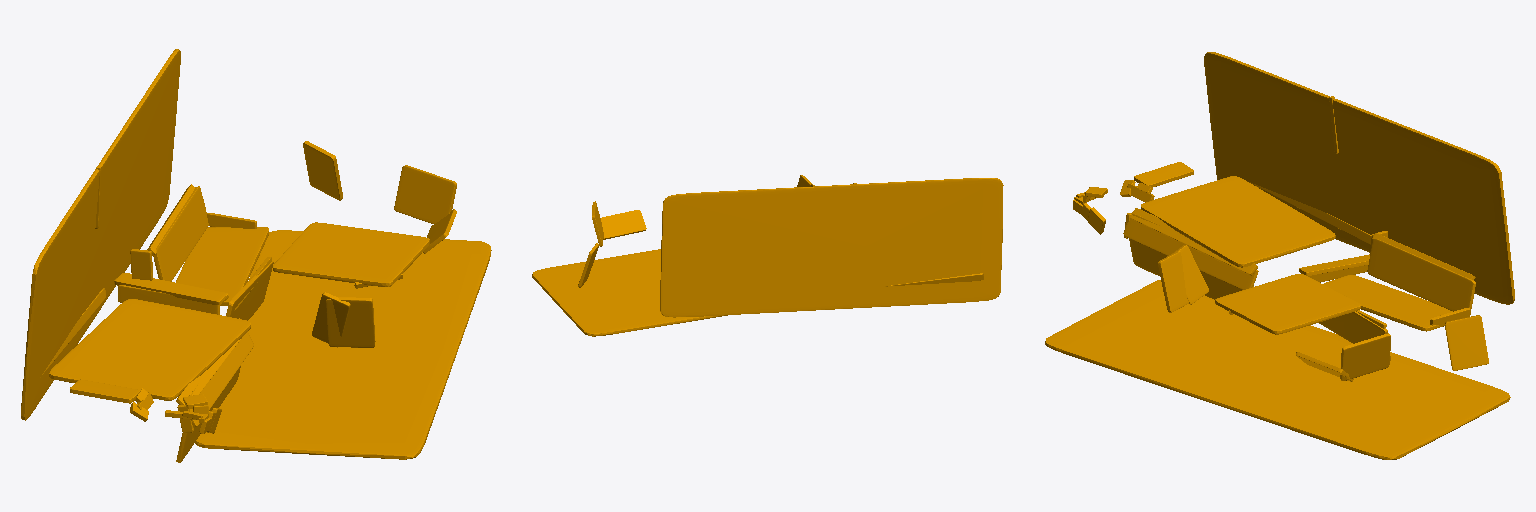
The robot description file, URDF, robot "scene":
<?xml version='1.0' encoding='utf-8'?>
<robot name="scene"><link name="scene_link"><visual><origin xyz="0.000000 0.000000 0.000000" rpy="0.000000 -0.000000 0.000000" /><geometry><mesh filename="part_000.obj" /></geometry></visual><collision><origin xyz="0.000000 0.000000 0.000000" rpy="0.000000 -0.000000 0.000000" /><geometry><mesh filename="part_000.obj" /></geometry></collision><visual><origin xyz="0.000000 0.000000 0.000000" rpy="0.000000 -0.000000 0.000000" /><geometry><mesh filename="part_001.obj" /></geometry></visual><collision><origin xyz="0.000000 0.000000 0.000000" rpy="0.000000 -0.000000 0.000000" /><geometry><mesh filename="part_001.obj" /></geometry></collision><visual><origin xyz="0.000000 0.000000 0.000000" rpy="0.000000 -0.000000 0.000000" /><geometry><mesh filename="part_002.obj" /></geometry></visual><collision><origin xyz="0.000000 0.000000 0.000000" rpy="0.000000 -0.000000 0.000000" /><geometry><mesh filename="part_002.obj" /></geometry></collision><visual><origin xyz="0.000000 0.000000 0.000000" rpy="0.000000 -0.000000 0.000000" /><geometry><mesh filename="part_003.obj" /></geometry></visual><collision><origin xyz="0.000000 0.000000 0.000000" rpy="0.000000 -0.000000 0.000000" /><geometry><mesh filename="part_003.obj" /></geometry></collision><visual><origin xyz="0.000000 0.000000 0.000000" rpy="0.000000 -0.000000 0.000000" /><geometry><mesh filename="part_004.obj" /></geometry></visual><collision><origin xyz="0.000000 0.000000 0.000000" rpy="0.000000 -0.000000 0.000000" /><geometry><mesh filename="part_004.obj" /></geometry></collision><visual><origin xyz="0.000000 0.000000 0.000000" rpy="0.000000 -0.000000 0.000000" /><geometry><mesh filename="part_005.obj" /></geometry></visual><collision><origin xyz="0.000000 0.000000 0.000000" rpy="0.000000 -0.000000 0.000000" /><geometry><mesh filename="part_005.obj" /></geometry></collision><visual><origin xyz="0.000000 0.000000 0.000000" rpy="0.000000 -0.000000 0.000000" /><geometry><mesh filename="part_006.obj" /></geometry></visual><collision><origin xyz="0.000000 0.000000 0.000000" rpy="0.000000 -0.000000 0.000000" /><geometry><mesh filename="part_006.obj" /></geometry></collision><visual><origin xyz="0.000000 0.000000 0.000000" rpy="0.000000 -0.000000 0.000000" /><geometry><mesh filename="part_007.obj" /></geometry></visual><collision><origin xyz="0.000000 0.000000 0.000000" rpy="0.000000 -0.000000 0.000000" /><geometry><mesh filename="part_007.obj" /></geometry></collision><visual><origin xyz="0.000000 0.000000 0.000000" rpy="0.000000 -0.000000 0.000000" /><geometry><mesh filename="part_008.obj" /></geometry></visual><collision><origin xyz="0.000000 0.000000 0.000000" rpy="0.000000 -0.000000 0.000000" /><geometry><mesh filename="part_008.obj" /></geometry></collision><visual><origin xyz="0.000000 0.000000 0.000000" rpy="0.000000 -0.000000 0.000000" /><geometry><mesh filename="part_009.obj" /></geometry></visual><collision><origin xyz="0.000000 0.000000 0.000000" rpy="0.000000 -0.000000 0.000000" /><geometry><mesh filename="part_009.obj" /></geometry></collision><visual><origin xyz="0.000000 0.000000 0.000000" rpy="0.000000 -0.000000 0.000000" /><geometry><mesh filename="part_010.obj" /></geometry></visual><collision><origin xyz="0.000000 0.000000 0.000000" rpy="0.000000 -0.000000 0.000000" /><geometry><mesh filename="part_010.obj" /></geometry></collision><visual><origin xyz="0.000000 0.000000 0.000000" rpy="0.000000 -0.000000 0.000000" /><geometry><mesh filename="part_011.obj" /></geometry></visual><collision><origin xyz="0.000000 0.000000 0.000000" rpy="0.000000 -0.000000 0.000000" /><geometry><mesh filename="part_011.obj" /></geometry></collision><visual><origin xyz="0.000000 0.000000 0.000000" rpy="0.000000 -0.000000 0.000000" /><geometry><mesh filename="part_012.obj" /></geometry></visual><collision><origin xyz="0.000000 0.000000 0.000000" rpy="0.000000 -0.000000 0.000000" /><geometry><mesh filename="part_012.obj" /></geometry></collision><visual><origin xyz="0.000000 0.000000 0.000000" rpy="0.000000 -0.000000 0.000000" /><geometry><mesh filename="part_013.obj" /></geometry></visual><collision><origin xyz="0.000000 0.000000 0.000000" rpy="0.000000 -0.000000 0.000000" /><geometry><mesh filename="part_013.obj" /></geometry></collision><visual><origin xyz="0.000000 0.000000 0.000000" rpy="0.000000 -0.000000 0.000000" /><geometry><mesh filename="part_014.obj" /></geometry></visual><collision><origin xyz="0.000000 0.000000 0.000000" rpy="0.000000 -0.000000 0.000000" /><geometry><mesh filename="part_014.obj" /></geometry></collision><visual><origin xyz="0.000000 0.000000 0.000000" rpy="0.000000 -0.000000 0.000000" /><geometry><mesh filename="part_015.obj" /></geometry></visual><collision><origin xyz="0.000000 0.000000 0.000000" rpy="0.000000 -0.000000 0.000000" /><geometry><mesh filename="part_015.obj" /></geometry></collision><visual><origin xyz="0.000000 0.000000 0.000000" rpy="0.000000 -0.000000 0.000000" /><geometry><mesh filename="part_016.obj" /></geometry></visual><collision><origin xyz="0.000000 0.000000 0.000000" rpy="0.000000 -0.000000 0.000000" /><geometry><mesh filename="part_016.obj" /></geometry></collision><visual><origin xyz="0.000000 0.000000 0.000000" rpy="0.000000 -0.000000 0.000000" /><geometry><mesh filename="part_017.obj" /></geometry></visual><collision><origin xyz="0.000000 0.000000 0.000000" rpy="0.000000 -0.000000 0.000000" /><geometry><mesh filename="part_017.obj" /></geometry></collision><visual><origin xyz="0.000000 0.000000 0.000000" rpy="0.000000 -0.000000 0.000000" /><geometry><mesh filename="part_018.obj" /></geometry></visual><collision><origin xyz="0.000000 0.000000 0.000000" rpy="0.000000 -0.000000 0.000000" /><geometry><mesh filename="part_018.obj" /></geometry></collision><visual><origin xyz="0.000000 0.000000 0.000000" rpy="0.000000 -0.000000 0.000000" /><geometry><mesh filename="part_019.obj" /></geometry></visual><collision><origin xyz="0.000000 0.000000 0.000000" rpy="0.000000 -0.000000 0.000000" /><geometry><mesh filename="part_019.obj" /></geometry></collision><visual><origin xyz="0.000000 0.000000 0.000000" rpy="0.000000 -0.000000 0.000000" /><geometry><mesh filename="part_020.obj" /></geometry></visual><collision><origin xyz="0.000000 0.000000 0.000000" rpy="0.000000 -0.000000 0.000000" /><geometry><mesh filename="part_020.obj" /></geometry></collision><visual><origin xyz="0.000000 0.000000 0.000000" rpy="0.000000 -0.000000 0.000000" /><geometry><mesh filename="part_021.obj" /></geometry></visual><collision><origin xyz="0.000000 0.000000 0.000000" rpy="0.000000 -0.000000 0.000000" /><geometry><mesh filename="part_021.obj" /></geometry></collision><visual><origin xyz="0.000000 0.000000 0.000000" rpy="0.000000 -0.000000 0.000000" /><geometry><mesh filename="part_022.obj" /></geometry></visual><collision><origin xyz="0.000000 0.000000 0.000000" rpy="0.000000 -0.000000 0.000000" /><geometry><mesh filename="part_022.obj" /></geometry></collision><visual><origin xyz="0.000000 0.000000 0.000000" rpy="0.000000 -0.000000 0.000000" /><geometry><mesh filename="part_023.obj" /></geometry></visual><collision><origin xyz="0.000000 0.000000 0.000000" rpy="0.000000 -0.000000 0.000000" /><geometry><mesh filename="part_023.obj" /></geometry></collision><visual><origin xyz="0.000000 0.000000 0.000000" rpy="0.000000 -0.000000 0.000000" /><geometry><mesh filename="part_024.obj" /></geometry></visual><collision><origin xyz="0.000000 0.000000 0.000000" rpy="0.000000 -0.000000 0.000000" /><geometry><mesh filename="part_024.obj" /></geometry></collision><visual><origin xyz="0.000000 0.000000 0.000000" rpy="0.000000 -0.000000 0.000000" /><geometry><mesh filename="part_025.obj" /></geometry></visual><collision><origin xyz="0.000000 0.000000 0.000000" rpy="0.000000 -0.000000 0.000000" /><geometry><mesh filename="part_025.obj" /></geometry></collision><visual><origin xyz="0.000000 0.000000 0.000000" rpy="0.000000 -0.000000 0.000000" /><geometry><mesh filename="part_026.obj" /></geometry></visual><collision><origin xyz="0.000000 0.000000 0.000000" rpy="0.000000 -0.000000 0.000000" /><geometry><mesh filename="part_026.obj" /></geometry></collision><visual><origin xyz="0.000000 0.000000 0.000000" rpy="0.000000 -0.000000 0.000000" /><geometry><mesh filename="part_027.obj" /></geometry></visual><collision><origin xyz="0.000000 0.000000 0.000000" rpy="0.000000 -0.000000 0.000000" /><geometry><mesh filename="part_027.obj" /></geometry></collision><visual><origin xyz="0.000000 0.000000 0.000000" rpy="0.000000 -0.000000 0.000000" /><geometry><mesh filename="part_028.obj" /></geometry></visual><collision><origin xyz="0.000000 0.000000 0.000000" rpy="0.000000 -0.000000 0.000000" /><geometry><mesh filename="part_028.obj" /></geometry></collision><visual><origin xyz="0.000000 0.000000 0.000000" rpy="0.000000 -0.000000 0.000000" /><geometry><mesh filename="part_029.obj" /></geometry></visual><collision><origin xyz="0.000000 0.000000 0.000000" rpy="0.000000 -0.000000 0.000000" /><geometry><mesh filename="part_029.obj" /></geometry></collision><visual><origin xyz="0.000000 0.000000 0.000000" rpy="0.000000 -0.000000 0.000000" /><geometry><mesh filename="part_030.obj" /></geometry></visual><collision><origin xyz="0.000000 0.000000 0.000000" rpy="0.000000 -0.000000 0.000000" /><geometry><mesh filename="part_030.obj" /></geometry></collision><visual><origin xyz="0.000000 0.000000 0.000000" rpy="0.000000 -0.000000 0.000000" /><geometry><mesh filename="part_031.obj" /></geometry></visual><collision><origin xyz="0.000000 0.000000 0.000000" rpy="0.000000 -0.000000 0.000000" /><geometry><mesh filename="part_031.obj" /></geometry></collision><visual><origin xyz="0.000000 0.000000 0.000000" rpy="0.000000 -0.000000 0.000000" /><geometry><mesh filename="part_032.obj" /></geometry></visual><collision><origin xyz="0.000000 0.000000 0.000000" rpy="0.000000 -0.000000 0.000000" /><geometry><mesh filename="part_032.obj" /></geometry></collision><visual><origin xyz="0.000000 0.000000 0.000000" rpy="0.000000 -0.000000 0.000000" /><geometry><mesh filename="part_033.obj" /></geometry></visual><collision><origin xyz="0.000000 0.000000 0.000000" rpy="0.000000 -0.000000 0.000000" /><geometry><mesh filename="part_033.obj" /></geometry></collision><visual><origin xyz="0.000000 0.000000 0.000000" rpy="0.000000 -0.000000 0.000000" /><geometry><mesh filename="part_034.obj" /></geometry></visual><collision><origin xyz="0.000000 0.000000 0.000000" rpy="0.000000 -0.000000 0.000000" /><geometry><mesh filename="part_034.obj" /></geometry></collision><visual><origin xyz="0.000000 0.000000 0.000000" rpy="0.000000 -0.000000 0.000000" /><geometry><mesh filename="part_035.obj" /></geometry></visual><collision><origin xyz="0.000000 0.000000 0.000000" rpy="0.000000 -0.000000 0.000000" /><geometry><mesh filename="part_035.obj" /></geometry></collision><visual><origin xyz="0.000000 0.000000 0.000000" rpy="0.000000 -0.000000 0.000000" /><geometry><mesh filename="part_036.obj" /></geometry></visual><collision><origin xyz="0.000000 0.000000 0.000000" rpy="0.000000 -0.000000 0.000000" /><geometry><mesh filename="part_036.obj" /></geometry></collision><visual><origin xyz="0.000000 0.000000 0.000000" rpy="0.000000 -0.000000 0.000000" /><geometry><mesh filename="part_037.obj" /></geometry></visual><collision><origin xyz="0.000000 0.000000 0.000000" rpy="0.000000 -0.000000 0.000000" /><geometry><mesh filename="part_037.obj" /></geometry></collision><visual><origin xyz="0.000000 0.000000 0.000000" rpy="0.000000 -0.000000 0.000000" /><geometry><mesh filename="part_038.obj" /></geometry></visual><collision><origin xyz="0.000000 0.000000 0.000000" rpy="0.000000 -0.000000 0.000000" /><geometry><mesh filename="part_038.obj" /></geometry></collision></link></robot>

--- Facts derived from the render (not from the file) ---
The picture shows the robot from 3 angles, left to right: view 1: azimuth 30°, elevation 25°; view 2: azimuth 150°, elevation 25°; view 3: azimuth 270°, elevation 25°; orthographic projection.
Robot: scene — 1 links, 0 joints (none); root link scene_link; default pose: every joint at zero.
Visible links, largest first — view 1: scene_link; view 2: scene_link; view 3: scene_link.
Boxes of the visible links, left/top/right/bottom form: scene_link: left=21, top=49, right=491, bottom=462; scene_link: left=532, top=175, right=1003, bottom=336; scene_link: left=1045, top=52, right=1514, bottom=459.
Size in the robot's own frame: 5.31 by 4.37 by 1.97 metres.
39 mesh visuals loaded from 39 distinct referenced files (39 OBJ).